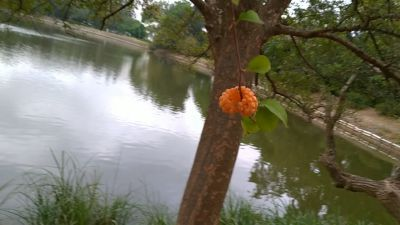eggs: (218, 85, 261, 115)
